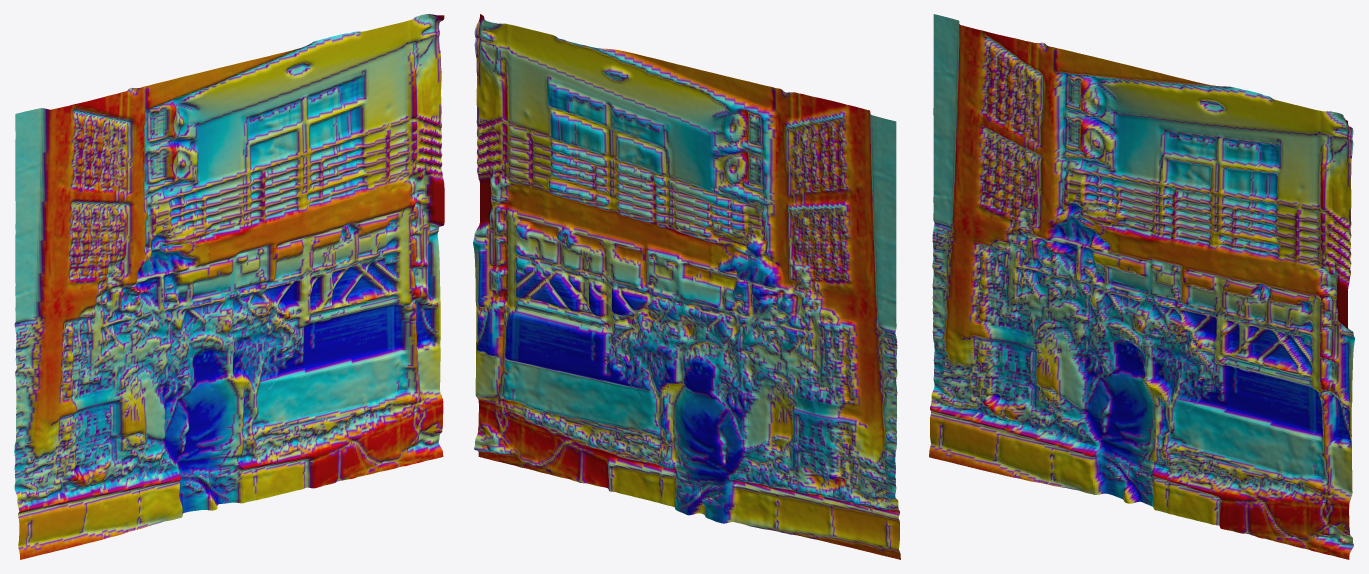
The picture shows the model from 3 angles, left to right: view 1: azimuth 30°, elevation 25°; view 2: azimuth 150°, elevation 25°; view 3: azimuth 330°, elevation 25°; orthographic projection.
Parts seen in each view (by area): view 1: world; view 2: world; view 3: world.
Part boxes in pixels (left/top/right/bottom): world: left=14, top=14, right=444, bottom=559; world: left=473, top=14, right=900, bottom=559; world: left=929, top=14, right=1354, bottom=559.
Bounding box in the file's own units: 299 × 299 × 12.
